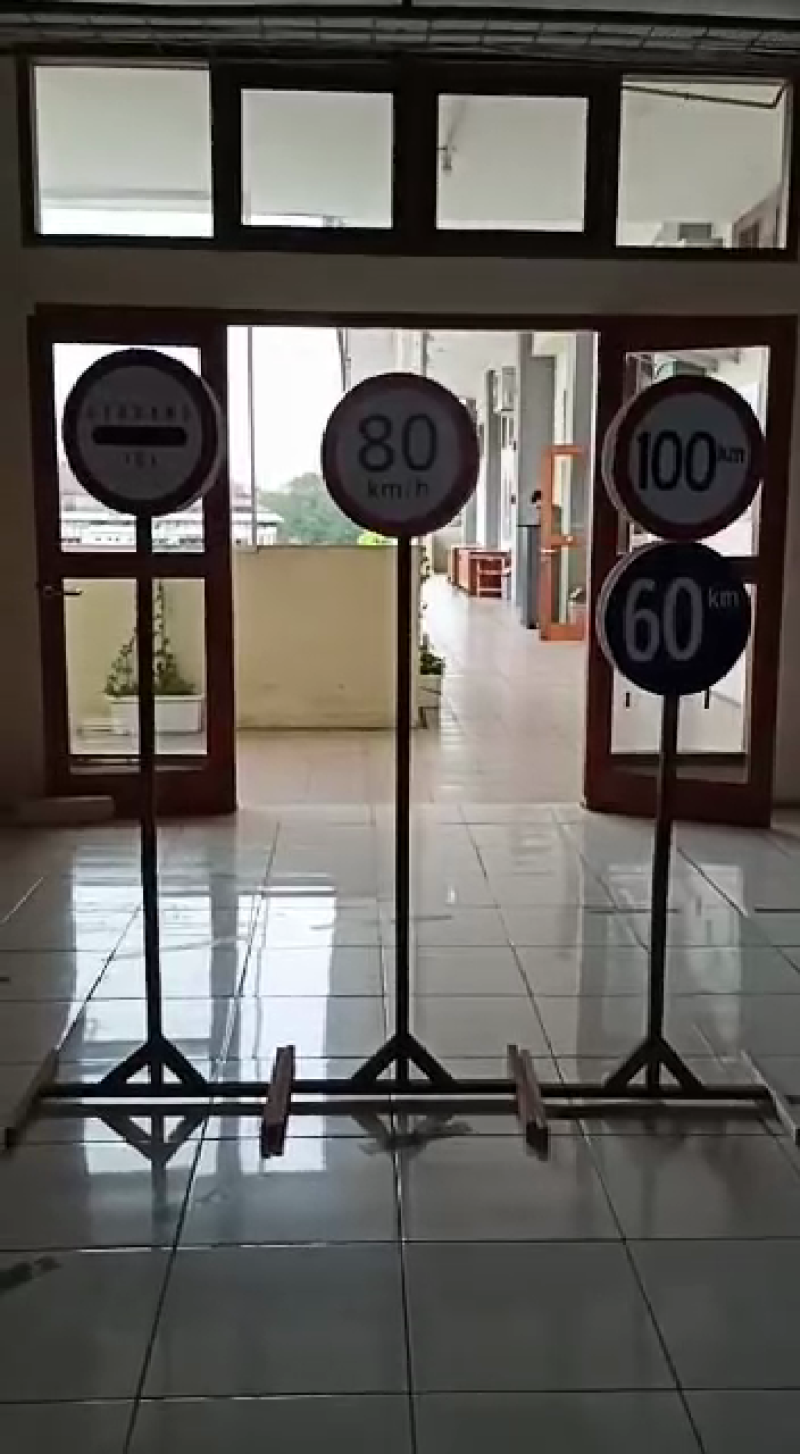batas maksimal 100kmperjam minimal 60kmperjam: (605, 368, 770, 703)
batas maksimal 80kmperjam: (318, 370, 481, 544)
gerbang tol: (55, 340, 242, 518)
